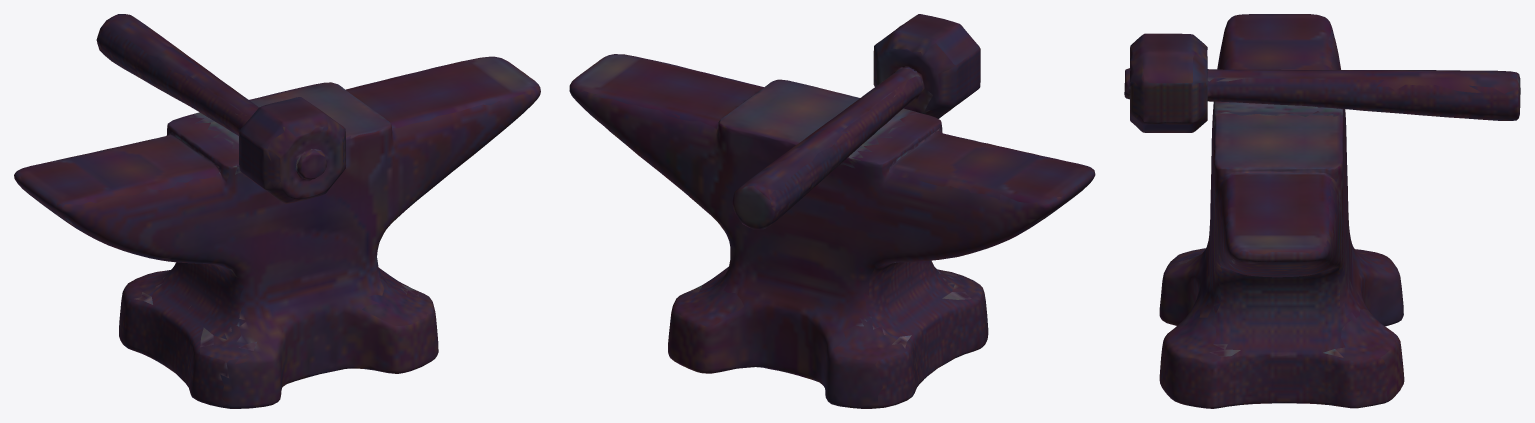
File: anvil.glb
The picture shows the model from 3 angles, left to right: view 1: azimuth 30°, elevation 25°; view 2: azimuth 150°, elevation 25°; view 3: azimuth 270°, elevation 25°; orthographic projection.
Bounding box in the file's own units: 1 × 0.5651 × 0.7023.
Materials: 1 (1 with a texture image).
